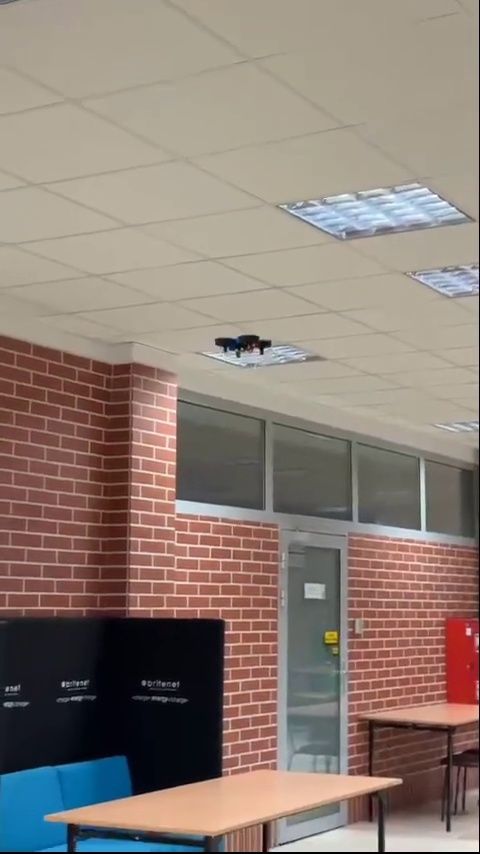drone: (213, 335, 274, 360)
